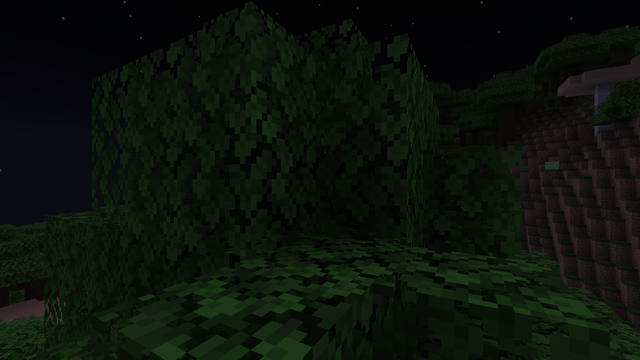slimes: (545, 161, 557, 169)
